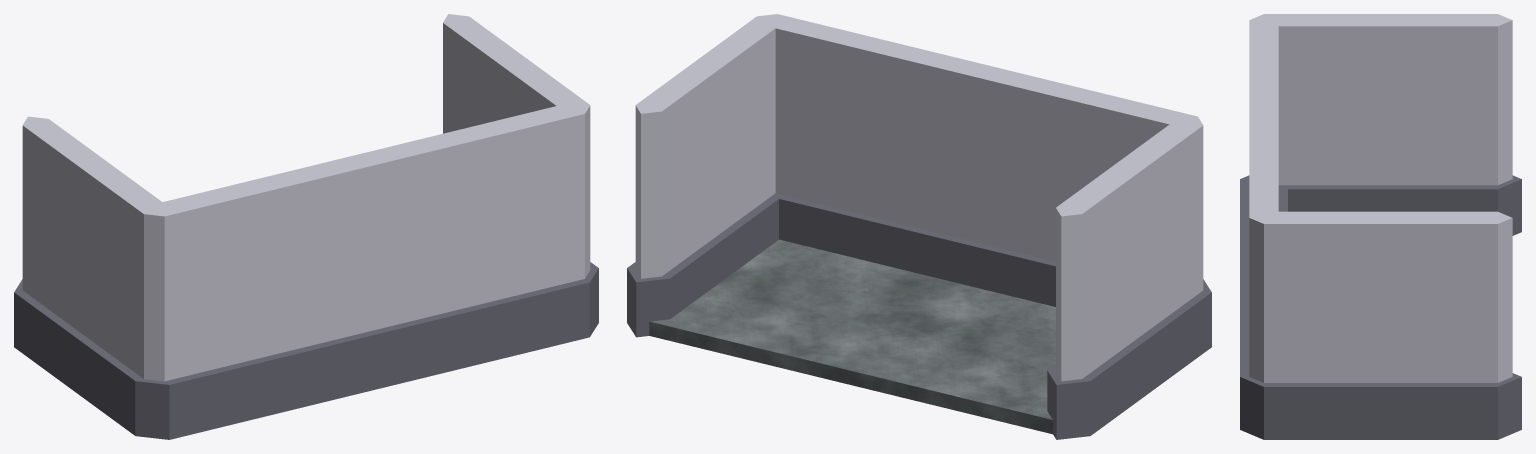
The model's file is hallway_end_01.fbx.
3 views of the same model, side by side, from view 1: azimuth 30°, elevation 25°; view 2: azimuth 150°, elevation 25°; view 3: azimuth 270°, elevation 25° (orthographic). The views are drawn at different scales.
Parts seen in each view (by area): view 1: corner_01_78, corner_01_77; view 2: corner_01_77, corner_01_78, floor_04_76; view 3: corner_01_77, corner_01_78.
Boxes of the visible parts, x1,y1,x2,y2 form: corner_01_78: (14,116,379,439); corner_01_77: (354,14,598,388); corner_01_77: (627,14,991,337); corner_01_78: (967,65,1211,439); floor_04_76: (649,239,1055,434); corner_01_77: (1240,113,1521,439); corner_01_78: (1240,14,1521,281).
Bounding box in the file's own units: 22.05 × 10 × 12.05.
